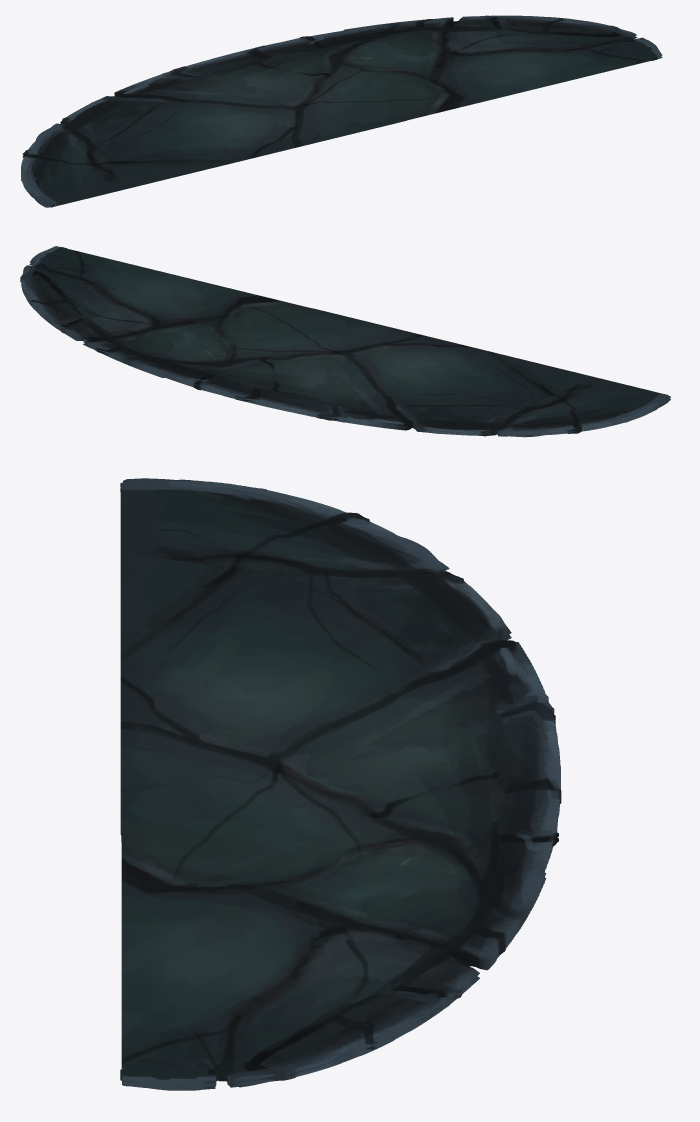
The picture shows the model from 3 angles, top to bottom: view 1: azimuth 30°, elevation 25°; view 2: azimuth 150°, elevation 25°; view 3: azimuth 270°, elevation 25°; orthographic projection. The views are drawn at different scales.
Parts seen in each view (by area): view 1: BG_cards_P; view 2: BG_cards_P; view 3: BG_cards_P.
Part boxes in pixels (bbox=[...]): BG_cards_P: bbox=[21, 15, 662, 207]; BG_cards_P: bbox=[20, 246, 670, 437]; BG_cards_P: bbox=[120, 478, 561, 1090].
Size of the model in its own units: 14.69 by 0.0534 by 4.48.
